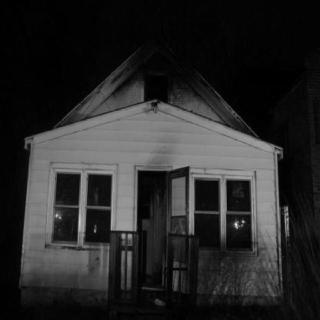other: (232, 215, 250, 229)
